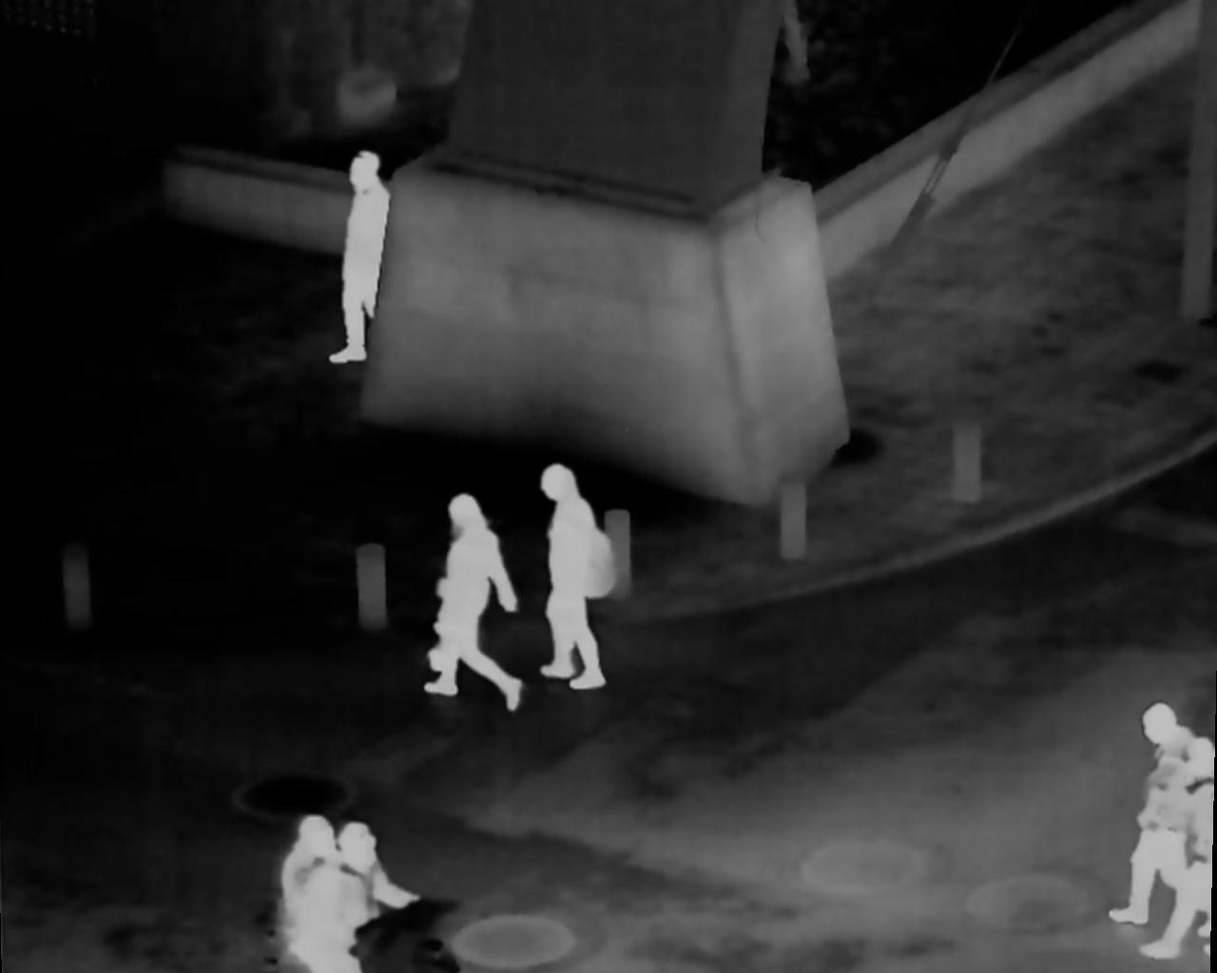person: (420, 494, 524, 717), (1113, 700, 1206, 924), (540, 465, 618, 692), (1142, 737, 1217, 960), (309, 820, 416, 973), (330, 151, 396, 365), (277, 816, 350, 971)
